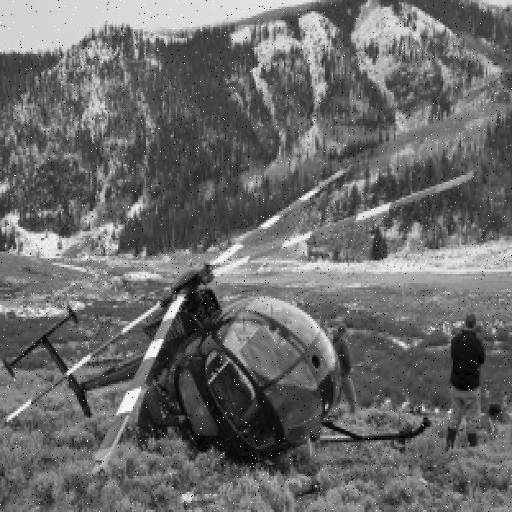helicopter: (23, 165, 438, 446)
